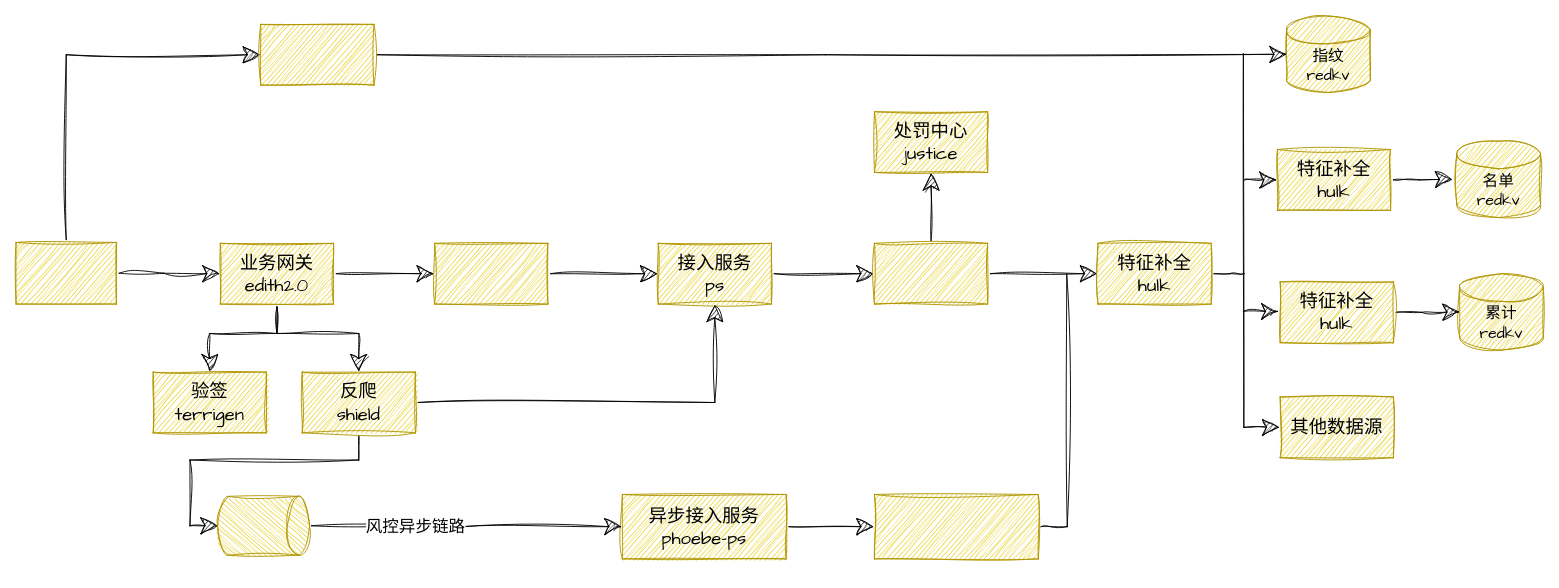
This 1559x588 diagram has some shape labels left out. Here are the shapes that lost their labels. From the top down, the centre of each, then its label:
At (x=317, y=54): "指纹 accio".
At (x=65, y=273): "客户端".
At (x=491, y=273): "各种业务 服务".
At (x=931, y=273): "规则引擎 hammurabi".
At (x=263, y=525): "kafka".
At (x=956, y=526): "异步规则引擎 hammurabi-async".
